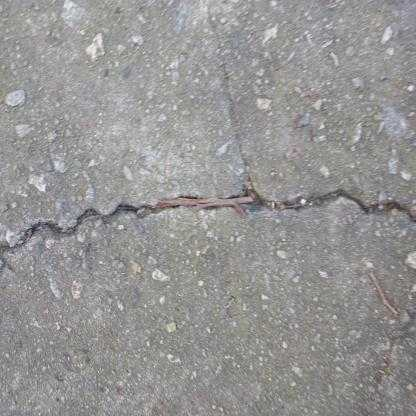crack: (0, 184, 416, 251)
